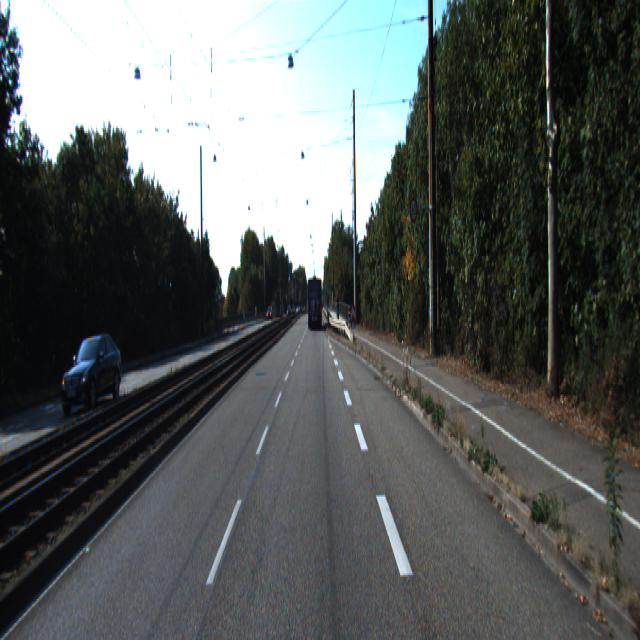Car: (61, 334, 126, 416), (308, 278, 322, 330)
